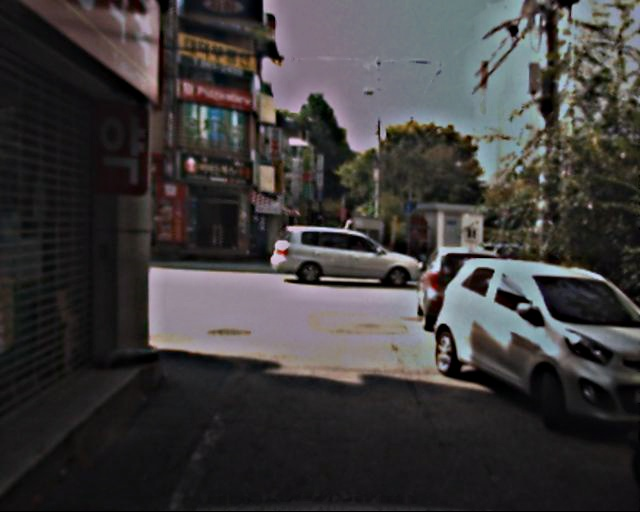person: (412, 229, 429, 271)
